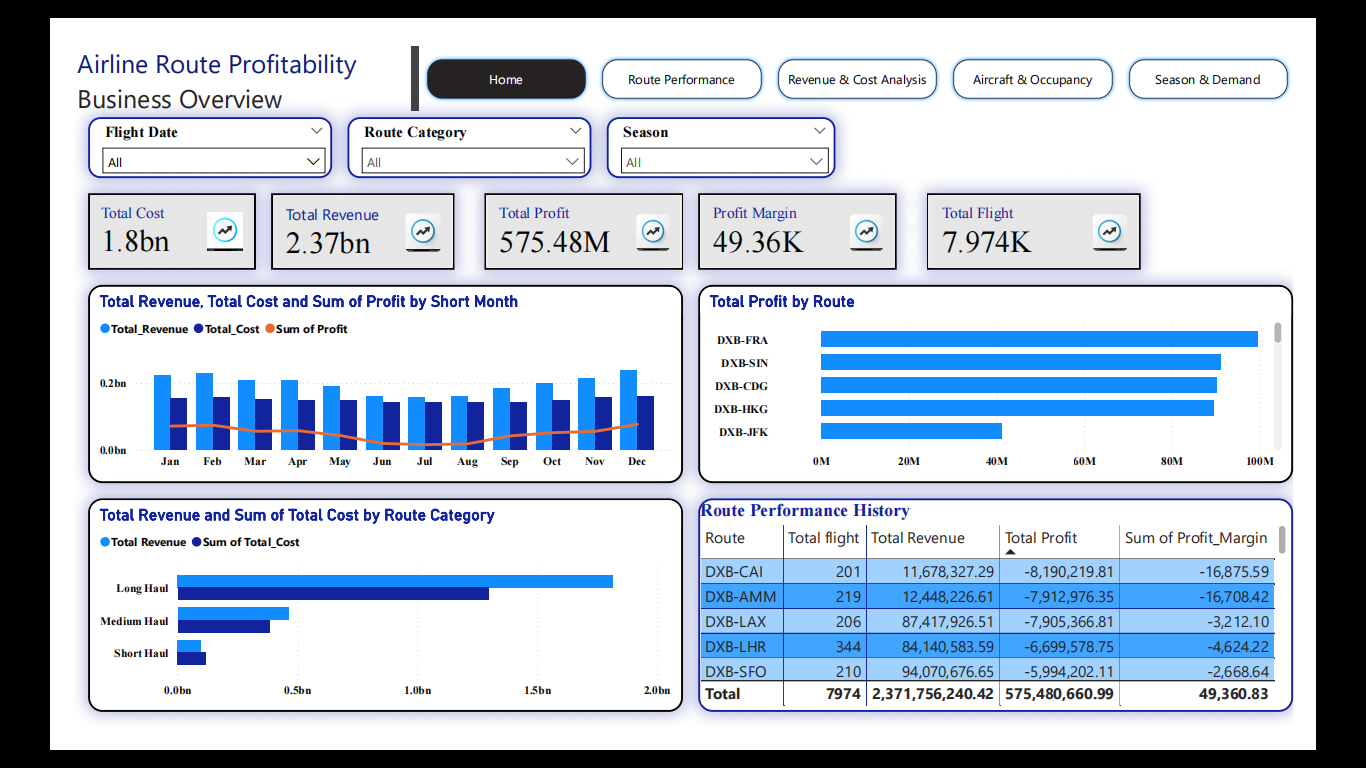

This screenshot's page, from the dashboard's own definition file:
{"tool":"powerbi","page":{"name":"Home","canvas":[1280,720],"ordinal":0},"visuals":[{"type":"textbox","box":[0,0,368,80],"z":0},{"type":"slicer","fields":{"Values":["airline_route_profitability.Flight_Date"]},"box":[16,80,256,64],"z":6000},{"type":"slicer","fields":{"Values":["airline_route_profitability.Route_Category"]},"box":[288,80,256,64],"z":7000},{"type":"slicer","fields":{"Values":["airline_route_profitability.Season"]},"box":[560,80,240,64],"z":8000},{"type":"cardVisual","fields":{"Data":["Sum(airline_route_profitability.Total_Cost)"]},"box":[16,160,176,80],"z":9000},{"type":"cardVisual","fields":{"Data":["Sum(airline_route_profitability.Total_Revenue)"]},"box":[208,160,192,80],"z":10000},{"type":"cardVisual","fields":{"Data":["Sum(airline_route_profitability.Profit)"]},"box":[432,160,208,80],"z":11000},{"type":"cardVisual","fields":{"Data":["Sum(airline_route_profitability.Profit_Margin)"]},"box":[656,160,208,80],"z":12000},{"type":"cardVisual","fields":{"Data":["Count(airline_route_profitability.Flight_Number)"]},"box":[896,160,224,80],"z":13000},{"type":"lineClusteredColumnComboChart","title":"Total Revenue, Total Cost and Sum of Profit by Short Month","fields":{"Y":["Sum(airline_route_profitability.Total_Revenue)","Sum(airline_route_profitability.Total_Cost)"],"Y2":["Sum(airline_route_profitability.Profit)"],"Category":["airline_route_profitability.Shortt Month"]},"box":[16,256,624,208],"z":14000},{"type":"barChart","fields":{"Category":["airline_route_profitability.Route"],"Y":["Sum(airline_route_profitability.Profit)"]},"box":[656,256,624,208],"z":15000},{"type":"clusteredBarChart","title":"Total Revenue and Sum of Total Cost by Route Category","fields":{"Category":["airline_route_profitability.Route_Category"],"Y":["airline_route_profitability.Total Revenue","Sum(airline_route_profitability.Total_Cost)"]},"box":[16,480,624,224],"z":16000},{"type":"tableEx","title":"Route Performance History","fields":{"Values":["airline_route_profitability.Route","airline_route_profitability.Flight_Number","airline_route_profitability.Total Revenue","Sum(airline_route_profitability.Profit)","Sum(airline_route_profitability.Profit_Margin)"]},"box":[656,480,624,224],"z":17000},{"type":"pageNavigator","box":[368,16,912,48],"z":17001}]}

Visuals, with their boxes in screenshot pixels (x1, y1, x2, y2), scaled from the page's 1280x720 canvas onto the 1366x768 screenshot:
textbox: left=0, top=0, right=393, bottom=85
slicer - airline_route_profitability.Flight_Date: left=17, top=85, right=290, bottom=154
slicer - airline_route_profitability.Route_Category: left=307, top=85, right=581, bottom=154
slicer - airline_route_profitability.Season: left=598, top=85, right=854, bottom=154
cardVisual - Sum(airline_route_profitability.Total_Cost): left=17, top=171, right=205, bottom=256
cardVisual - Sum(airline_route_profitability.Total_Revenue): left=222, top=171, right=427, bottom=256
cardVisual - Sum(airline_route_profitability.Profit): left=461, top=171, right=683, bottom=256
cardVisual - Sum(airline_route_profitability.Profit_Margin): left=700, top=171, right=922, bottom=256
cardVisual - Count(airline_route_profitability.Flight_Number): left=956, top=171, right=1195, bottom=256
"Total Revenue, Total Cost and Sum of Profit by Short Month" lineClusteredColumnComboChart: left=17, top=273, right=683, bottom=495
barChart - airline_route_profitability.Route x Sum(airline_route_profitability.Profit): left=700, top=273, right=1365, bottom=495
"Total Revenue and Sum of Total Cost by Route Category" clusteredBarChart: left=17, top=512, right=683, bottom=751
"Route Performance History" tableEx: left=700, top=512, right=1365, bottom=751
pageNavigator: left=393, top=17, right=1365, bottom=68
